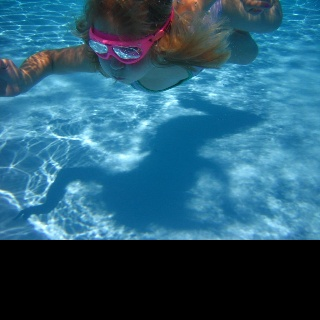without_mask: (89, 20, 164, 83)
